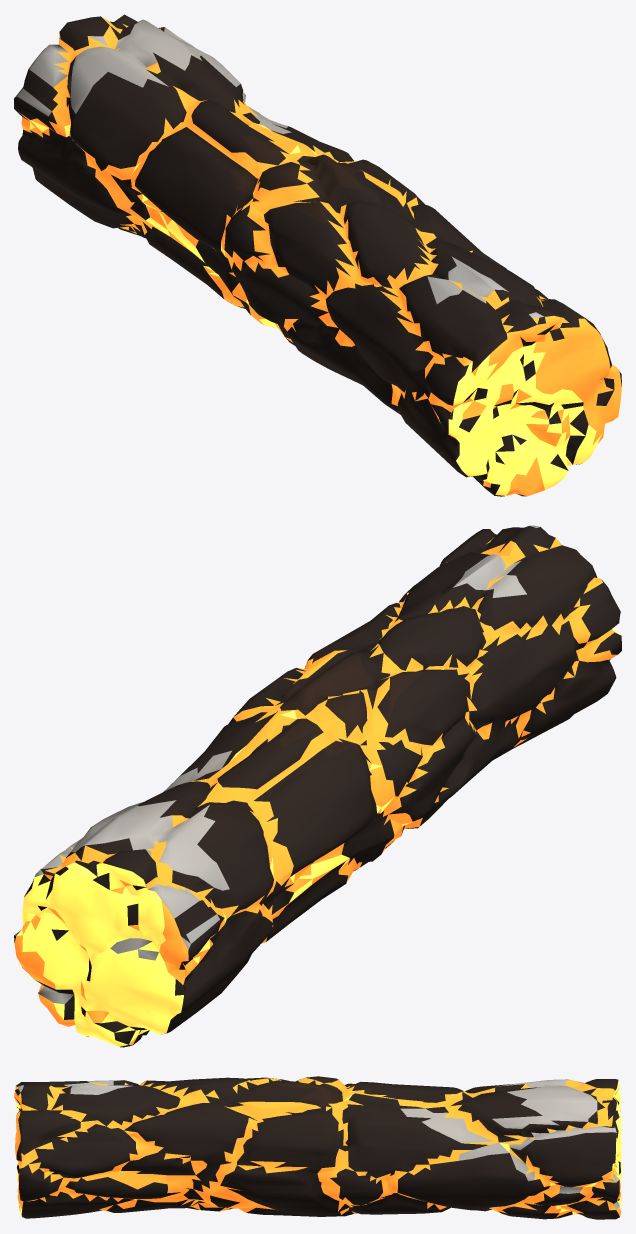
The model's file is ember_log_burning_b.glb.
3 renders of one model, top to bottom at view 1: azimuth 30°, elevation 25°; view 2: azimuth 150°, elevation 25°; view 3: azimuth 270°, elevation 25°, orthographic. The views are drawn at different scales.
Visible parts, largest first — view 1: ember_log_burning_b; view 2: ember_log_burning_b; view 3: ember_log_burning_b.
Part boxes in pixels (bbox=[...]): ember_log_burning_b: bbox=[14, 14, 621, 496]; ember_log_burning_b: bbox=[14, 525, 621, 1047]; ember_log_burning_b: bbox=[14, 1076, 621, 1219].
Bounding box in the file's own units: 9.44 × 9.21 × 38.41.
